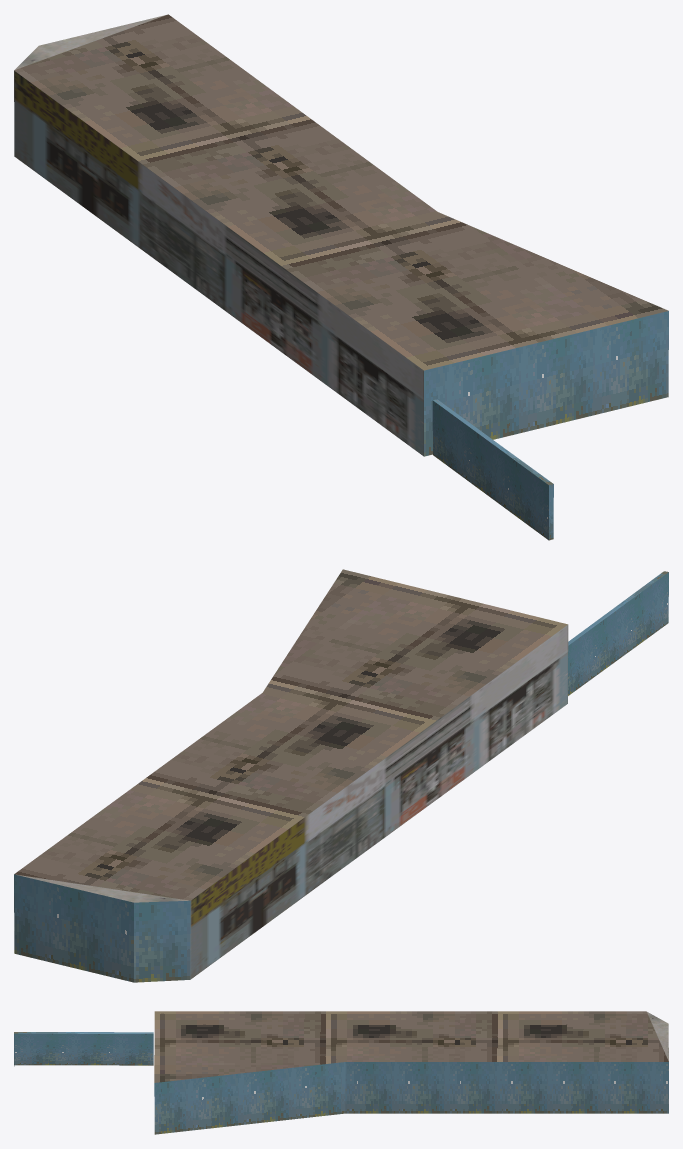
The model's file is lodlowbuild236.obj.
The picture shows the model from 3 angles, top to bottom: view 1: azimuth 30°, elevation 25°; view 2: azimuth 150°, elevation 25°; view 3: azimuth 270°, elevation 25°; orthographic projection. The views are drawn at different scales.
Visible parts, largest first — view 1: lodlowbuild236; view 2: lodlowbuild236; view 3: lodlowbuild236.
Boxes of the visible parts, x1=… form: lodlowbuild236: x1=14, y1=14, x2=668, y2=540; lodlowbuild236: x1=14, y1=569, x2=668, y2=982; lodlowbuild236: x1=14, y1=1011, x2=668, y2=1134.
Bounding box in the file's own units: 19.96 × 6.77 × 77.05.
4 materials, 4 textured.
